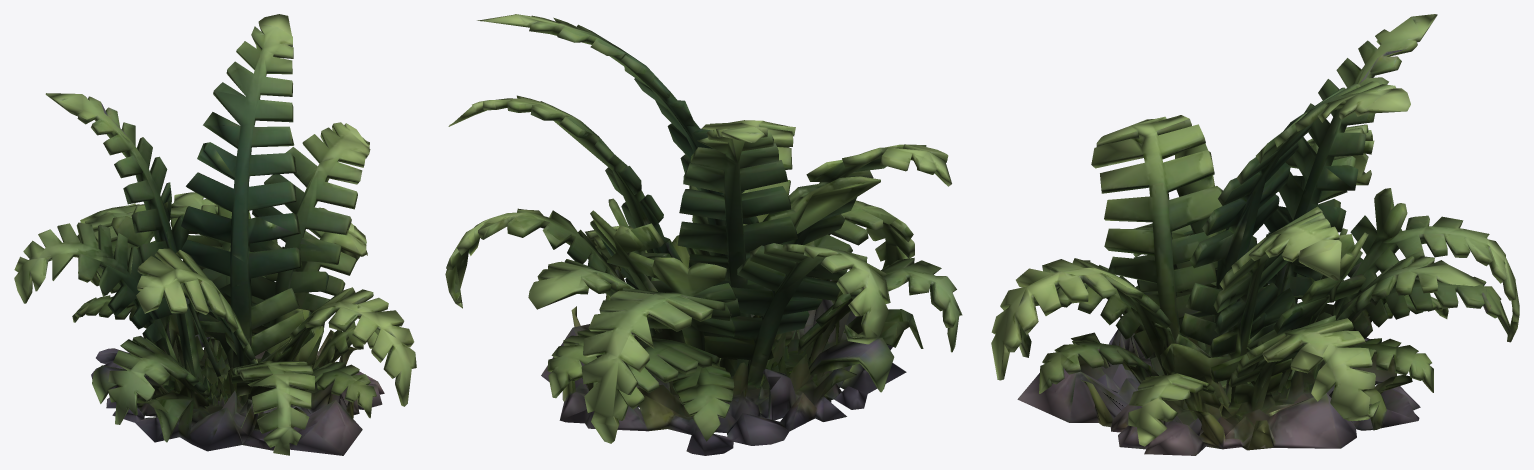
The model's file is fren2.opt.glb.
3 views of the same model, side by side, from view 1: azimuth 30°, elevation 25°; view 2: azimuth 150°, elevation 25°; view 3: azimuth 270°, elevation 25° (orthographic). The views are drawn at different scales.
Visible parts, largest first — view 1: node_0; view 2: node_0; view 3: node_0.
Boxes of the visible parts, bbox=[...] form: node_0: bbox=[14, 14, 416, 455]; node_0: bbox=[445, 14, 962, 455]; node_0: bbox=[991, 14, 1519, 455].
Bounding box in the file's own units: 0.9173 × 0.7627 × 1.03.
1 material, 1 textured.
